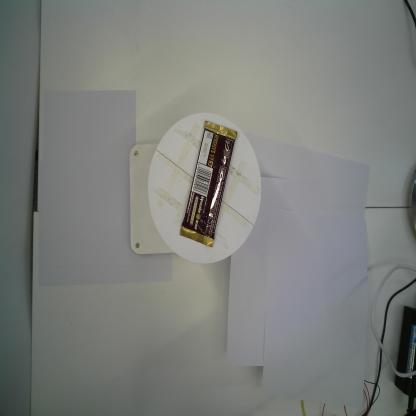Chocolate: (178, 118, 238, 248)
